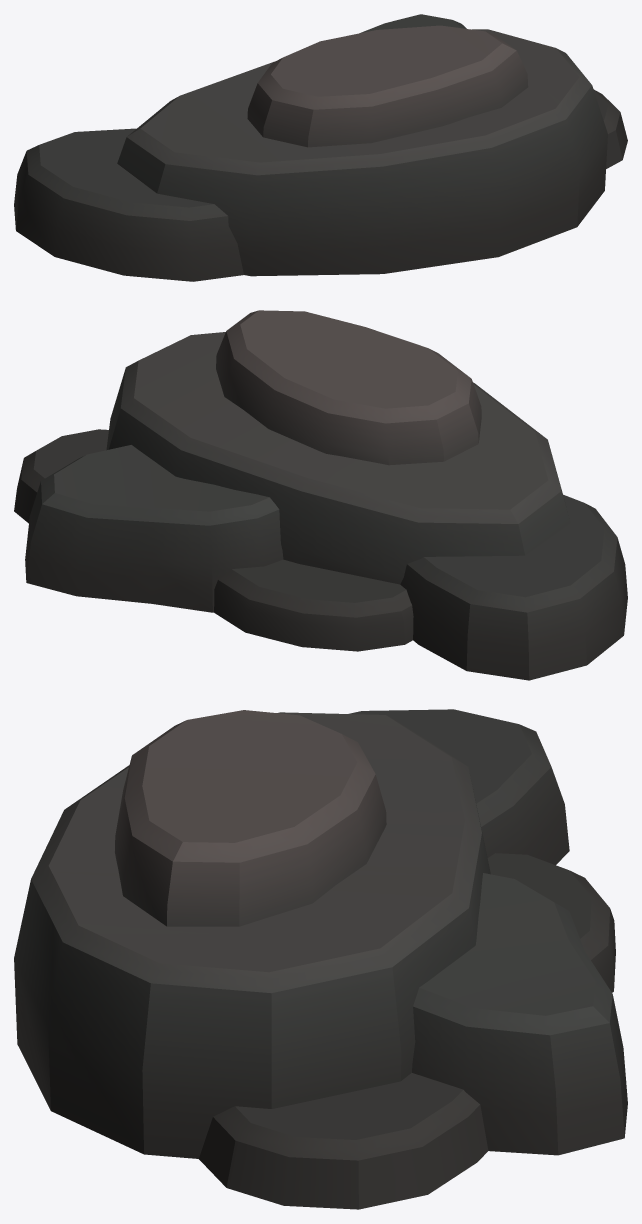
Rendered from MixedBag3.fbx.
3 renders of one model, top to bottom at view 1: azimuth 30°, elevation 25°; view 2: azimuth 150°, elevation 25°; view 3: azimuth 270°, elevation 25°, orthographic. The views are drawn at different scales.
Parts seen in each view (by area): view 1: MixedBag3_LOD0; view 2: MixedBag3_LOD0; view 3: MixedBag3_LOD0.
Part boxes in pixels (x1=…): MixedBag3_LOD0: x1=14, y1=14, x2=627, y2=281; MixedBag3_LOD0: x1=14, y1=310, x2=627, y2=680; MixedBag3_LOD0: x1=14, y1=709, x2=627, y2=1209.
Size of what is drawn, in the model's own units: 3.86 by 1.06 by 2.41.
